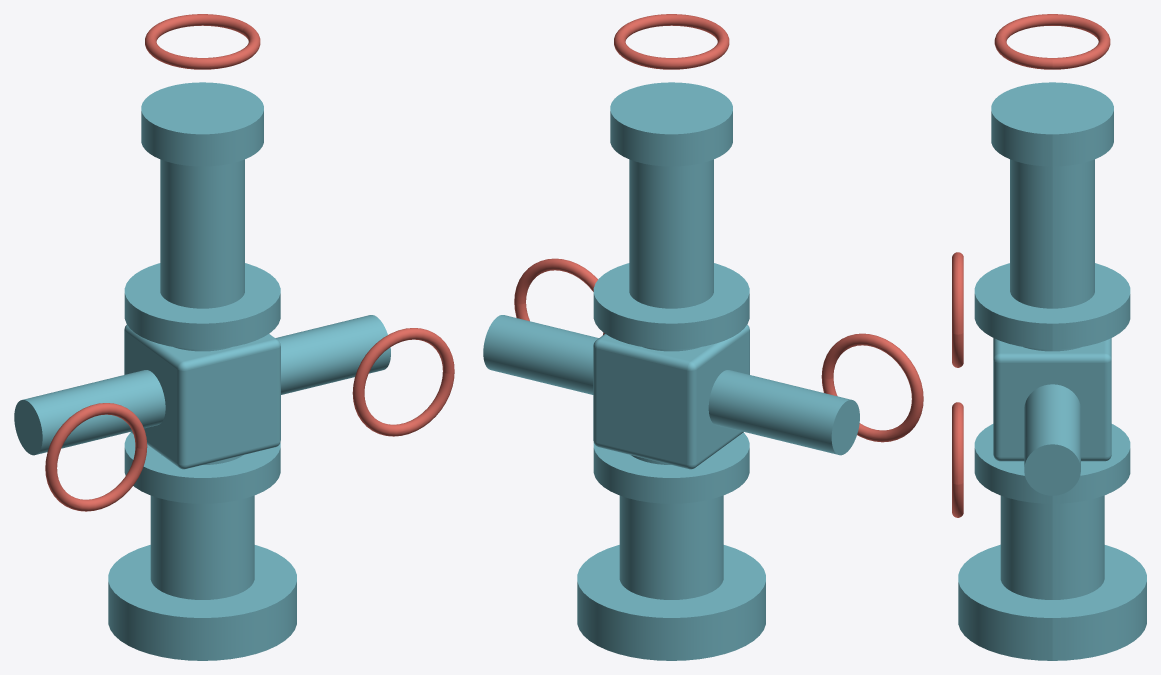
The model's file is sk575_pozo_vecino.glb.
The picture shows the model from 3 angles, left to right: view 1: azimuth 30°, elevation 25°; view 2: azimuth 150°, elevation 25°; view 3: azimuth 270°, elevation 25°; orthographic projection.
Parts seen in each view (by area): view 1: sk575_pozo_vecino_azul, sk575_pozo_vecino_rojo; view 2: sk575_pozo_vecino_azul, sk575_pozo_vecino_rojo; view 3: sk575_pozo_vecino_azul, sk575_pozo_vecino_rojo.
Part boxes in pixels (x1=…): sk575_pozo_vecino_azul: x1=14, y1=82, x2=390, y2=660; sk575_pozo_vecino_rojo: x1=45, y1=14, x2=454, y2=511; sk575_pozo_vecino_azul: x1=483, y1=82, x2=859, y2=660; sk575_pozo_vecino_rojo: x1=514, y1=14, x2=923, y2=442; sk575_pozo_vecino_azul: x1=958, y1=82, x2=1146, y2=660; sk575_pozo_vecino_rojo: x1=952, y1=14, x2=1110, y2=517.
Size of the model in its own units: 1.99 by 2.72 by 0.8238.
